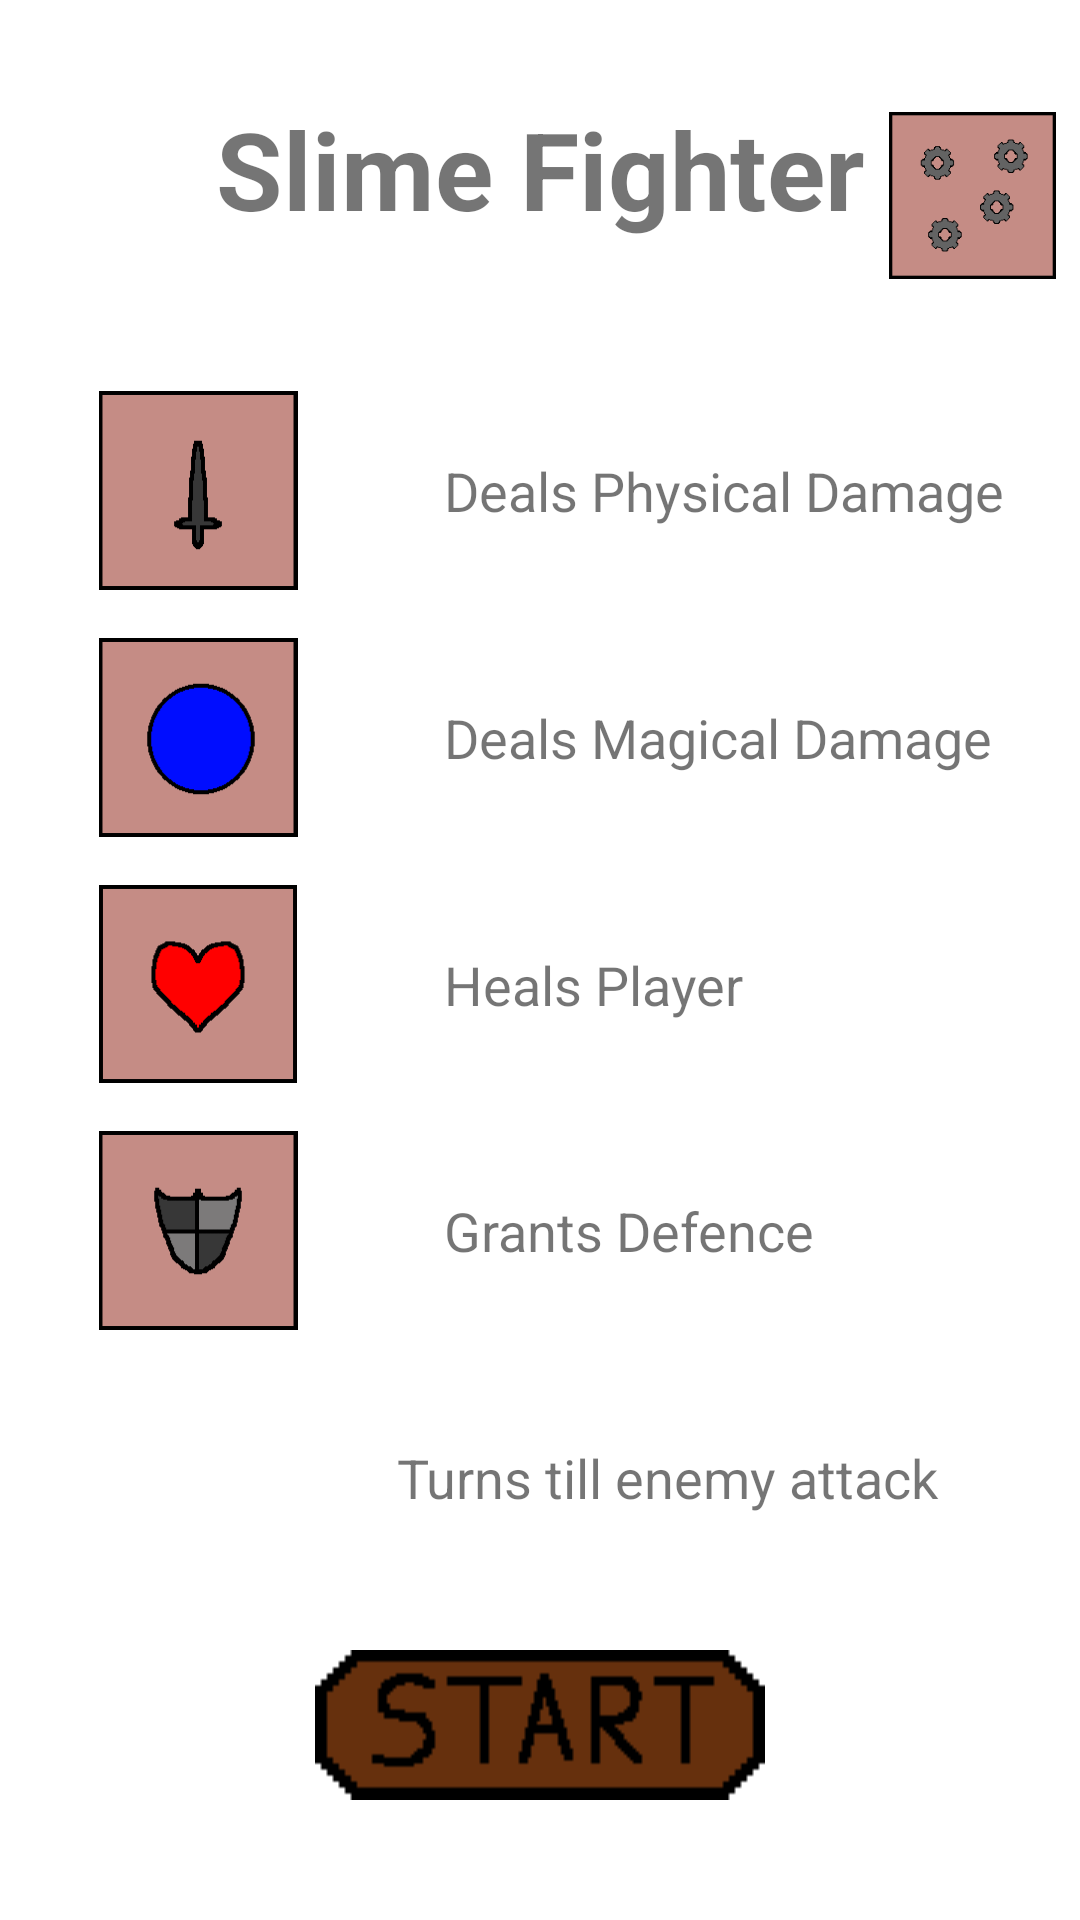

Icons on this 1080px×1920px Android screen, each with its box as (x1, y1, x2, y2):
attack: (99, 391, 298, 590)
settings: (889, 112, 1056, 279)
shield: (99, 1131, 298, 1330)
